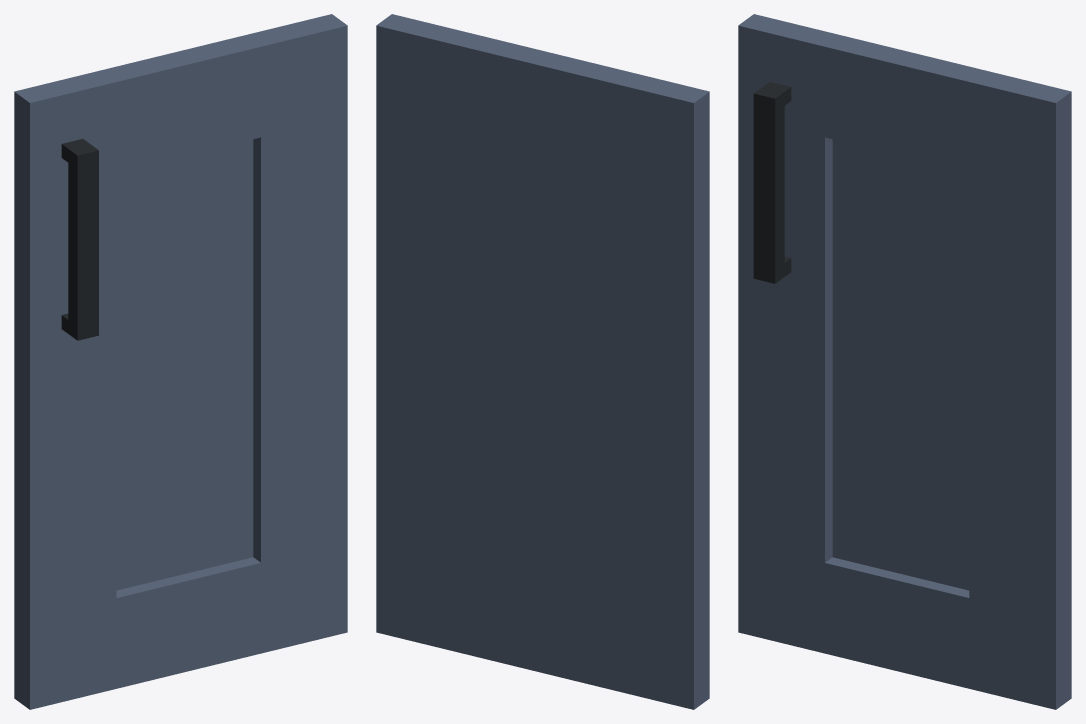
Rendered from Door2_C4_09.fbx.
The picture shows the model from 3 angles, left to right: view 1: azimuth 30°, elevation 25°; view 2: azimuth 150°, elevation 25°; view 3: azimuth 330°, elevation 25°; orthographic projection.
Parts seen in each view (by area): view 1: Door2_C4_09; view 2: Door2_C4_09; view 3: Door2_C4_09.
Part boxes in pixels (<box>): Door2_C4_09: <box>14,14,347,709</box>; Door2_C4_09: <box>376,14,709,709</box>; Door2_C4_09: <box>738,14,1071,709</box>.
Bounding box in the file's own units: 29 × 52.92 × 5.03.
